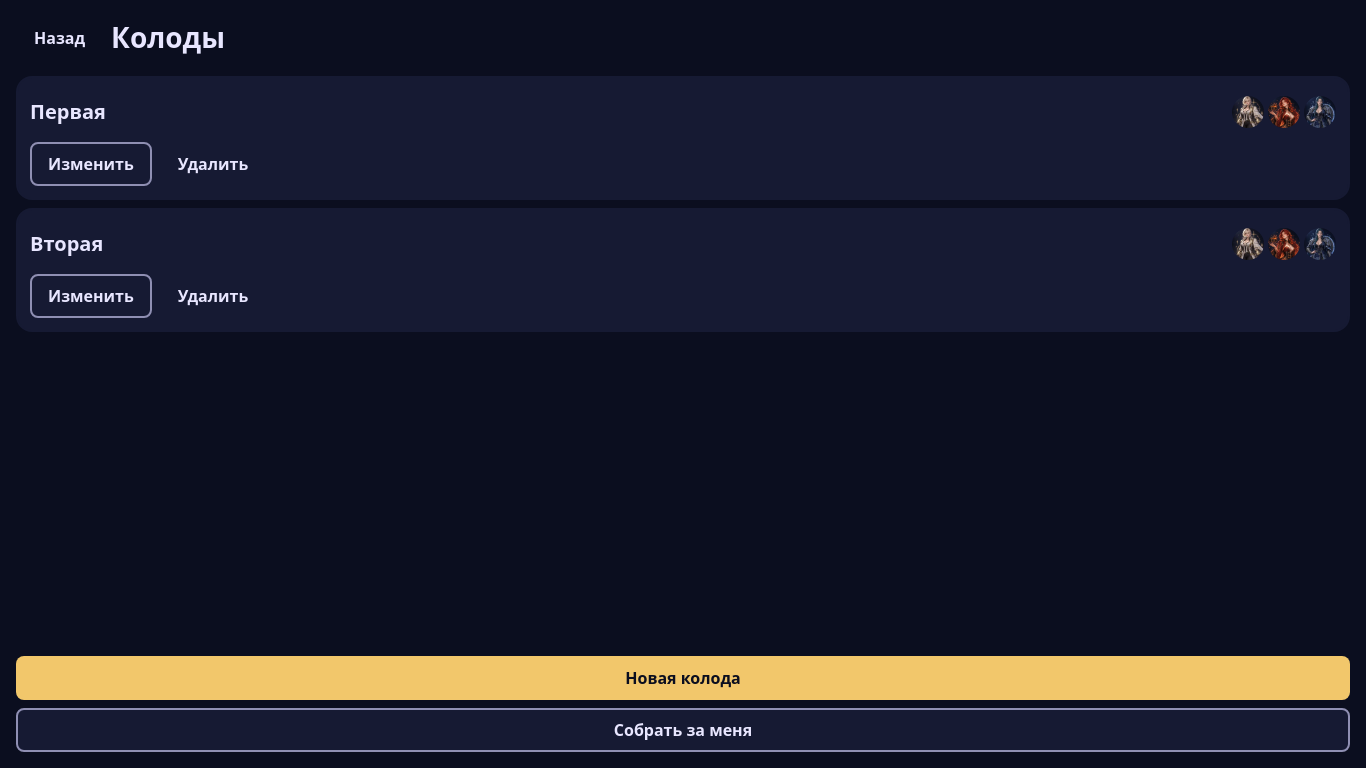
Scenario: список колод › тап по строке делает колоду активной
Click the button "Вторая".
click(67, 244)  # box top-left (30, 222), bottom-right (1336, 266)
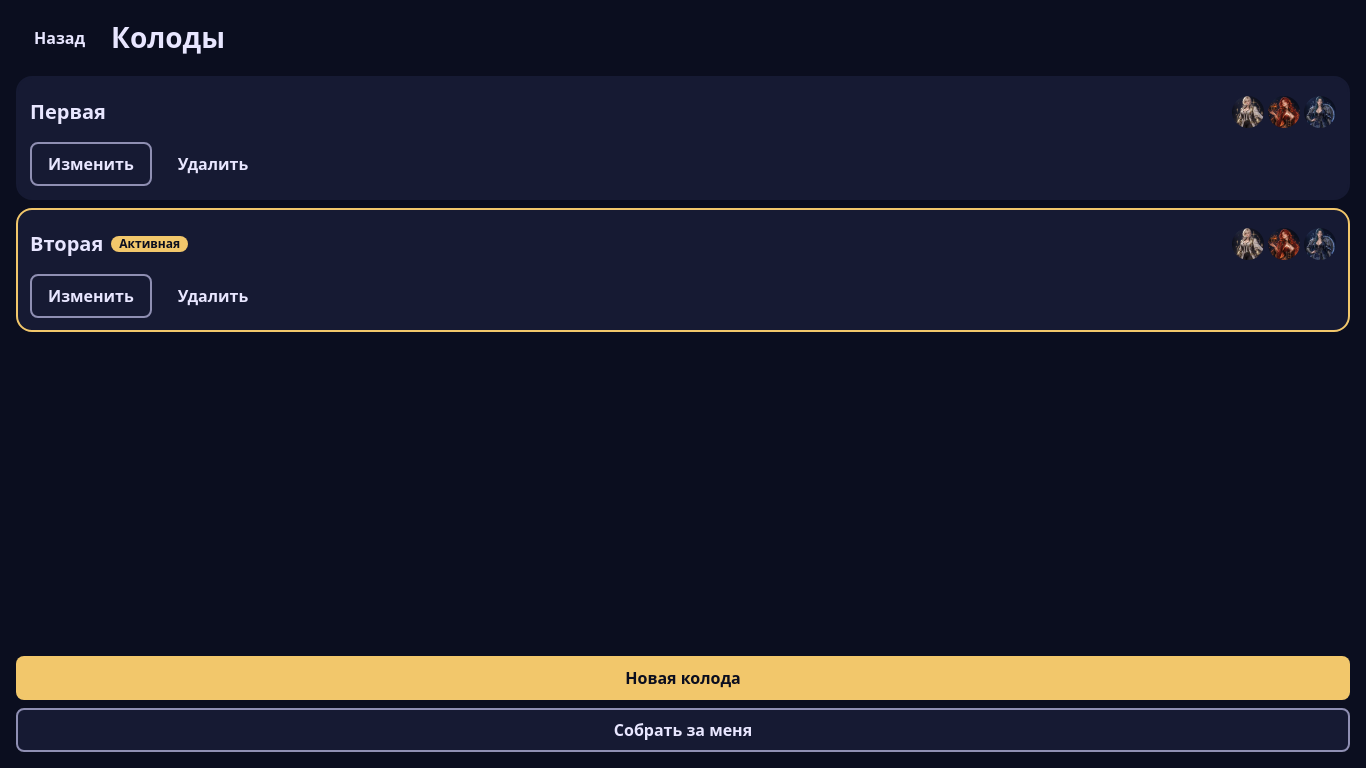
Expected: the list item with test id "deck-row-d2" shows "Активная", top-left (30, 222), bottom-right (1336, 266)
